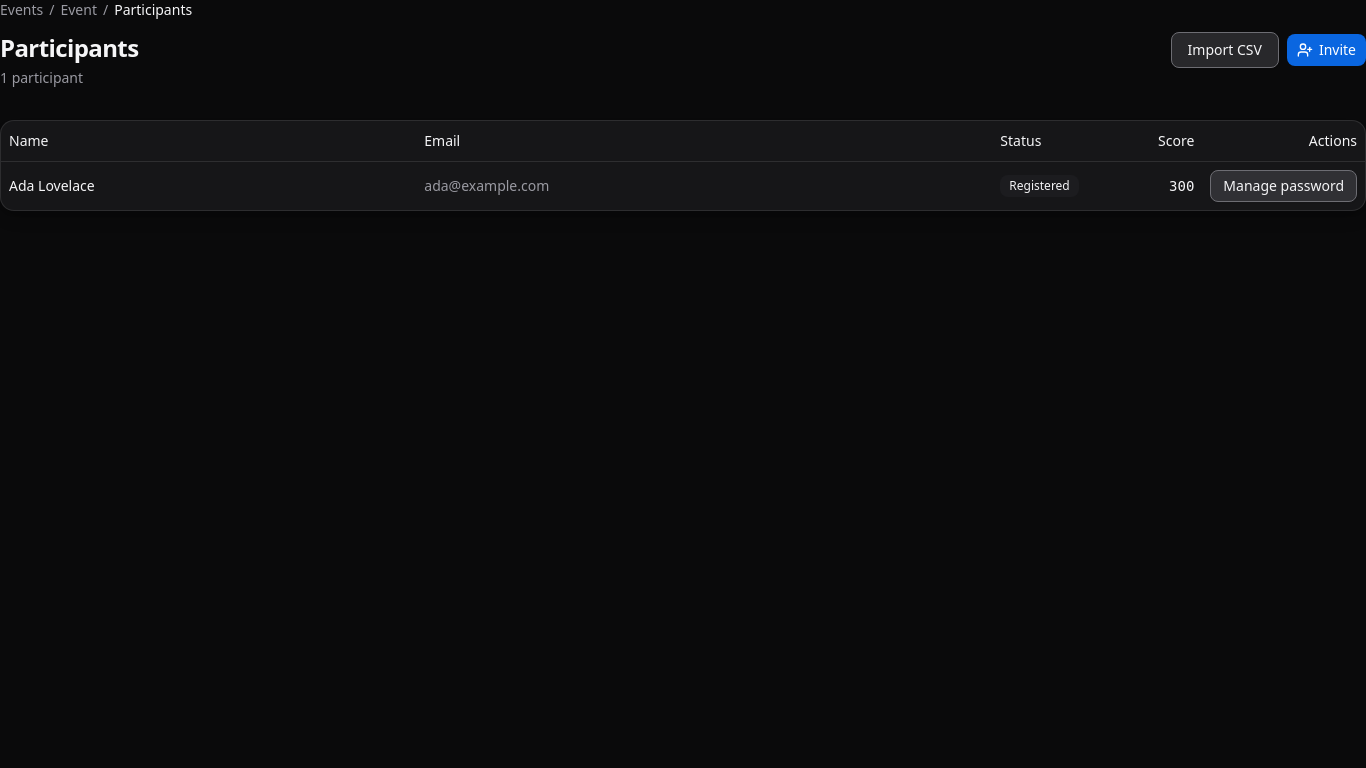
it: ParticipantsPage › opens password management for a participant
Expected: the link "Ada Lovelace" is shown, [9,176,95,194]
Expected: the text "ada@example.com" is shown, [416,161,992,210]
Click the button "Manage password": {"x": 1284, "y": 186} [1210,170,1357,202]
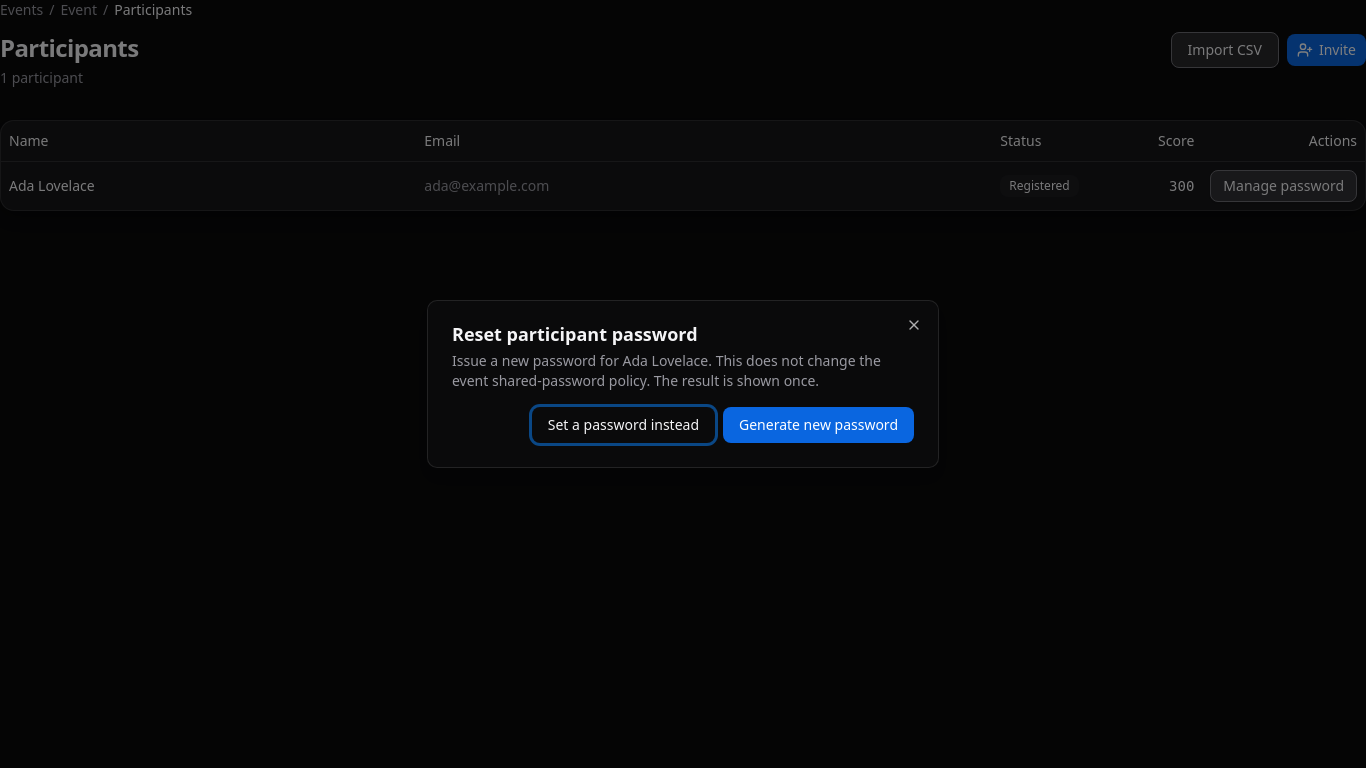
Expected: the dialog "Reset participant password" is shown, [427,300,939,468]
Expected: the button "Generate new password" is shown, [723,407,914,443]
